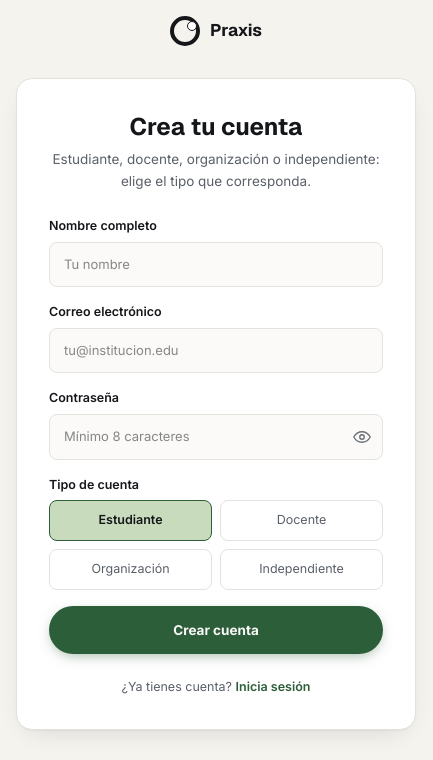
Test: Register › rejects a password shorter than 8 characters
Type "Ana" into the field with placeholder "Tu nombre" at (216, 264), box [49,242,383,287]
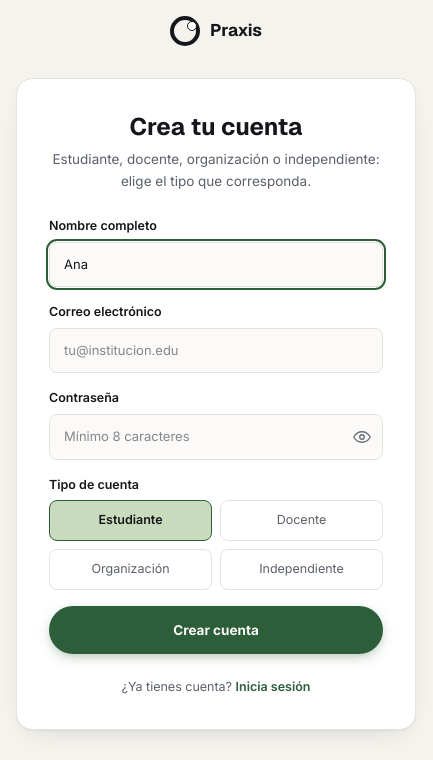
Type "ana@uabcs.mx" into the field with placeholder "tu@institucion.edu" at (216, 351), box [49,328,383,373]
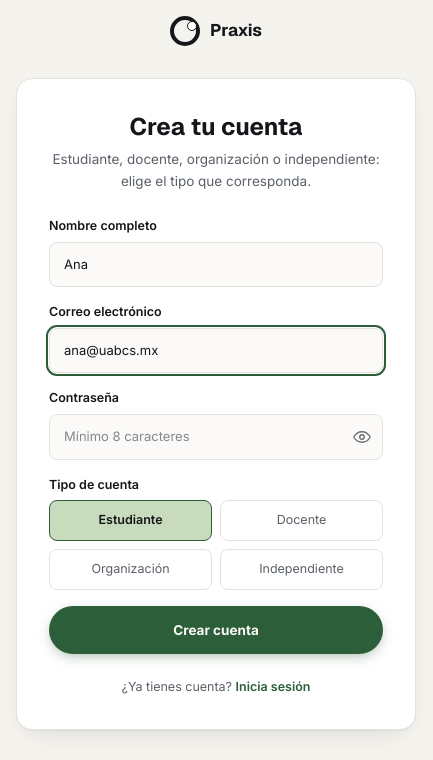
Type "short1" into the password field with placeholder "Mínimo 8 caracteres" at (216, 437), box [49,414,383,460]
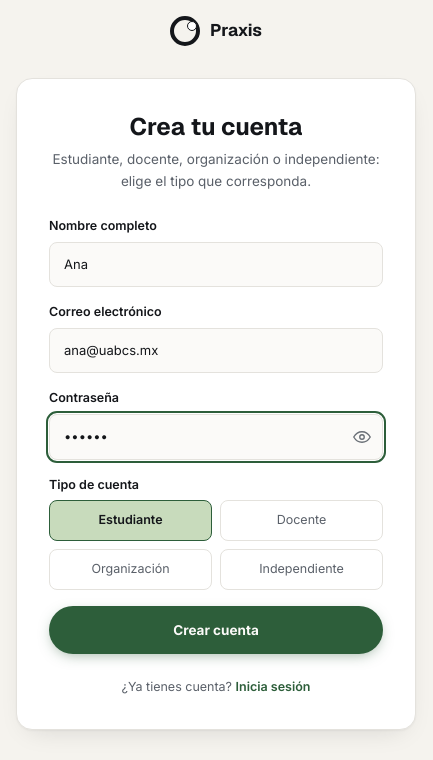
Click the button "Crear cuenta" at (216, 630), box [49,606,383,654]
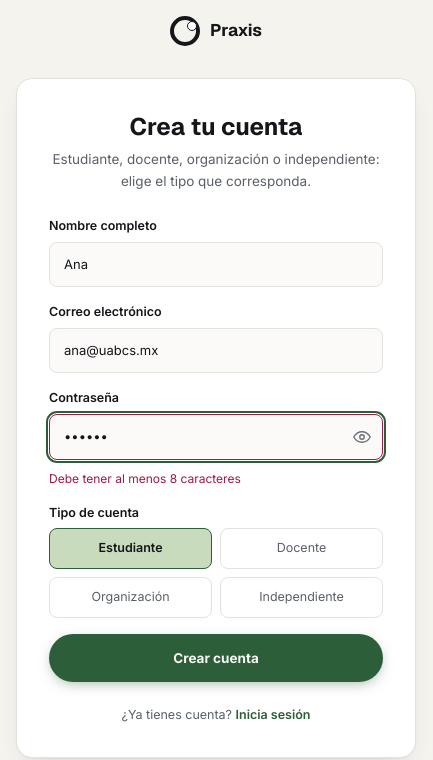
Expected: the text "Debe tener al menos 8 caracteres" is shown, [49,471,241,486]
